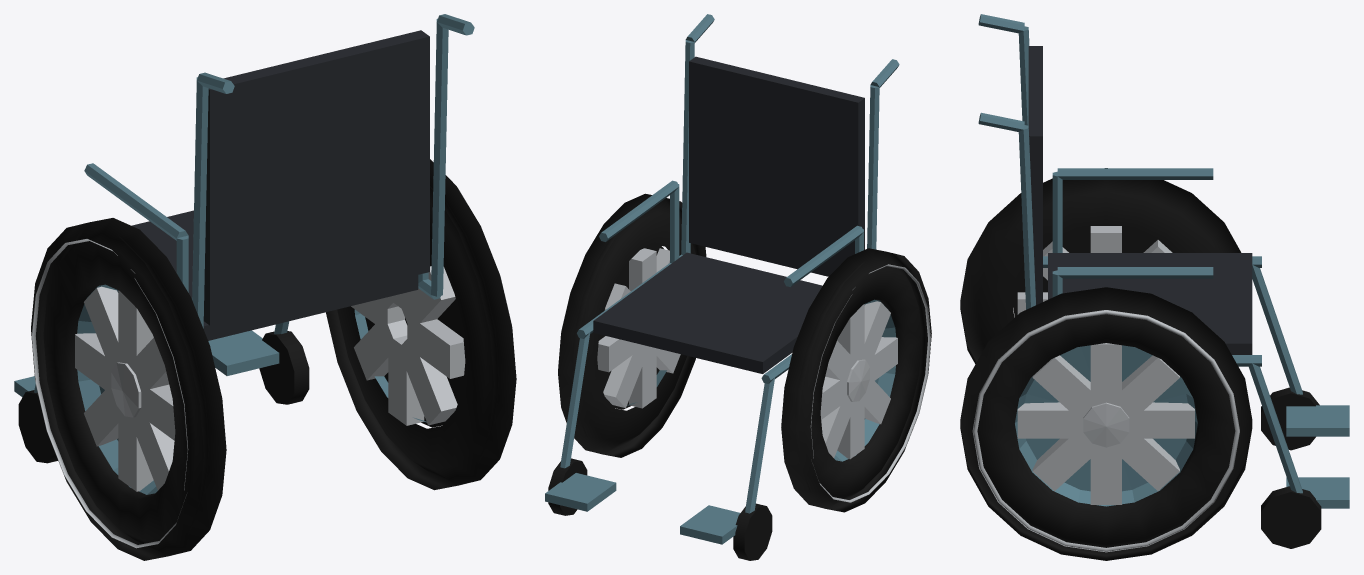
The model's file is wheelchair.glb.
The picture shows the model from 3 angles, left to right: view 1: azimuth 30°, elevation 25°; view 2: azimuth 150°, elevation 25°; view 3: azimuth 270°, elevation 25°; orthographic projection. The views are drawn at different scales.
Visible parts, largest first — view 1: chair, wheel_L, wheel_R, push_rim_L; view 2: chair, wheel_L, wheel_R, push_rim_L; view 3: wheel_R, chair, wheel_L, push_rim_R.
Boxes of the visible parts, box(x1,y1,x2,y2) form: chair: box(14, 14, 474, 463); wheel_L: box(31, 218, 226, 560); wheel_R: box(326, 159, 516, 490); push_rim_L: box(32, 239, 188, 548); chair: box(545, 14, 899, 560); wheel_L: box(781, 248, 931, 512); wheel_R: box(558, 193, 706, 457); push_rim_L: box(810, 264, 930, 502); wheel_R: box(960, 287, 1252, 560); chair: box(978, 14, 1349, 548); wheel_L: box(960, 168, 1241, 363); push_rim_R: box(972, 310, 1239, 552).
Size of the model in its own units: 0.656 by 0.9801 by 0.8.
